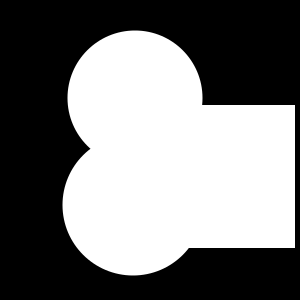circle: (152, 105, 295, 248)
rectangle: (63, 134, 204, 276), (68, 30, 202, 166), (128, 103, 228, 204)
triangle: (218, 224, 241, 247)
